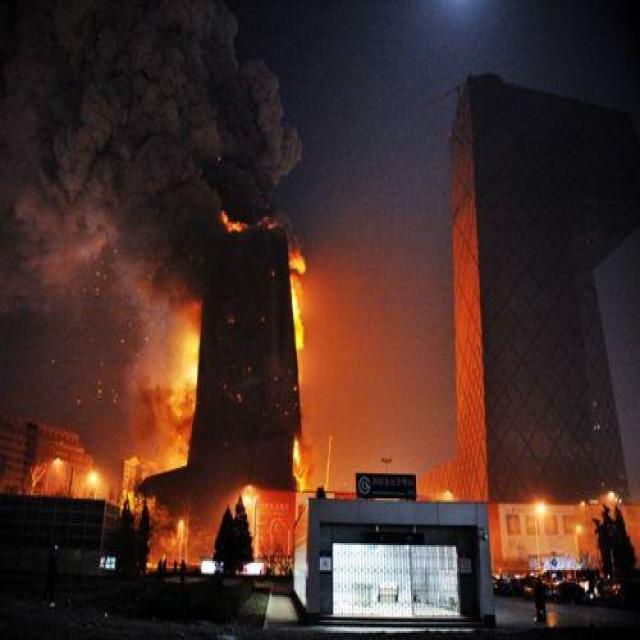fire: (281, 246, 315, 479), (168, 293, 199, 462), (213, 195, 285, 239)
other: (504, 481, 624, 572), (44, 449, 106, 496), (235, 479, 267, 545), (165, 512, 198, 550)
